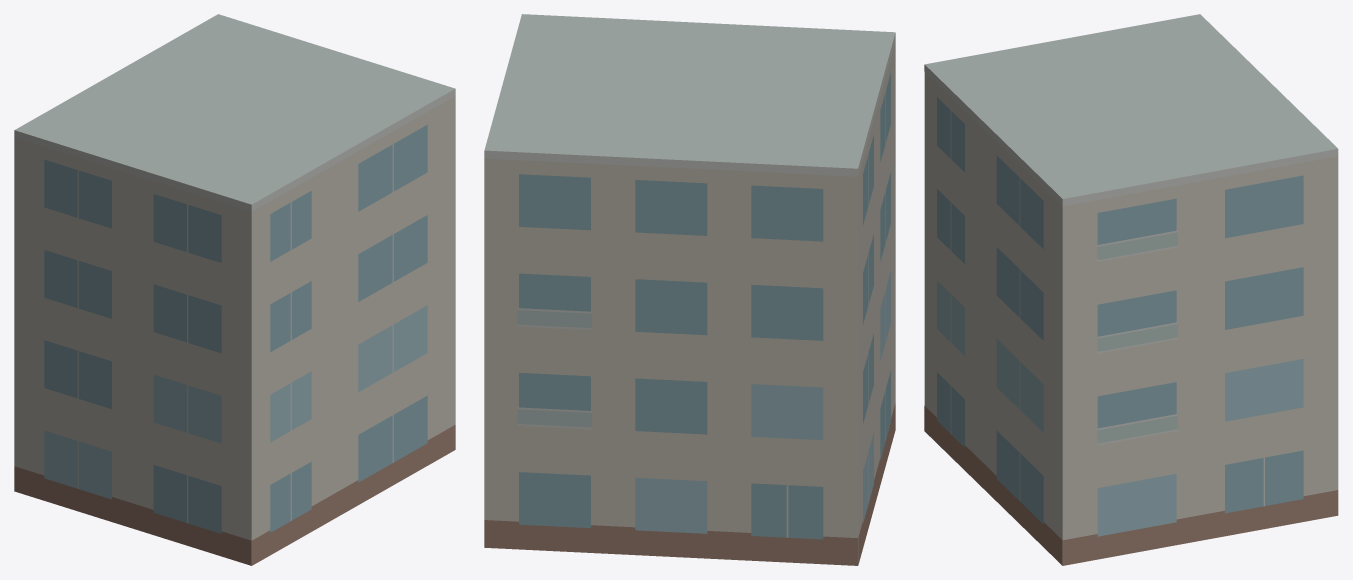
Rendered from survey-upis-32945531.glb.
3 views of the same model, side by side, from view 1: azimuth 30°, elevation 25°; view 2: azimuth 150°, elevation 25°; view 3: azimuth 270°, elevation 25° (orthographic). The views are drawn at different scales.
Visible parts, largest first — view 1: survey-upis-32945531.tmp; view 2: survey-upis-32945531.tmp; view 3: survey-upis-32945531.tmp.
Part boxes in pixels (<box>): survey-upis-32945531.tmp: <box>14,14,455,565</box>; survey-upis-32945531.tmp: <box>484,14,895,565</box>; survey-upis-32945531.tmp: <box>924,14,1338,565</box>.
Bounding box in the file's own units: 13.21 × 12.2 × 12.48.
